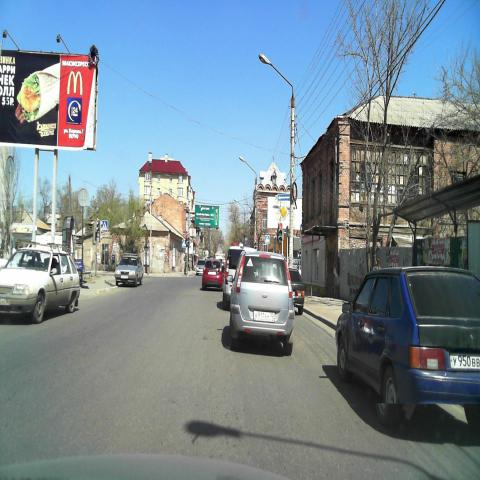2_1: (278, 203, 288, 221)
5_19_1: (101, 220, 108, 232), (182, 240, 187, 248)
